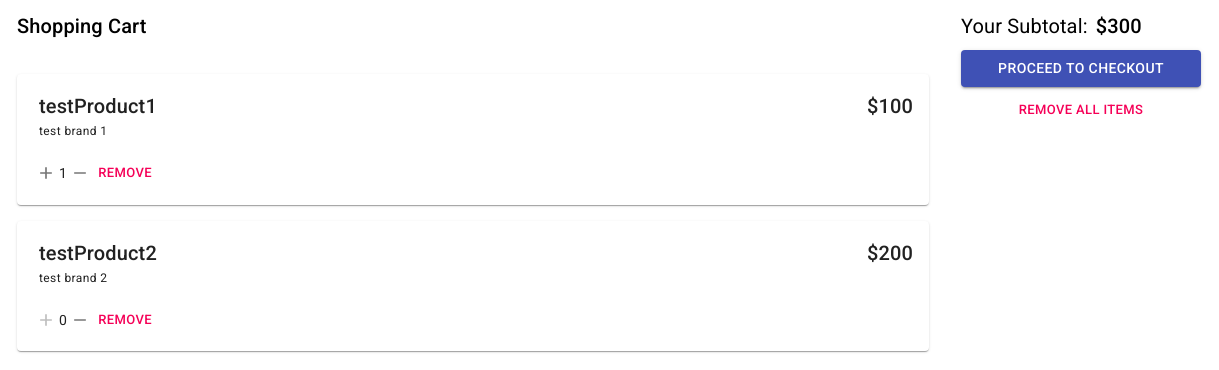
CartDetail tests › Cart is not empty › Clicking on the minus symbol decreases the quantity by 1
Click the button named "decrease" below "test brand 1" at (80, 173), box top-left (67, 160), bottom-right (93, 186)
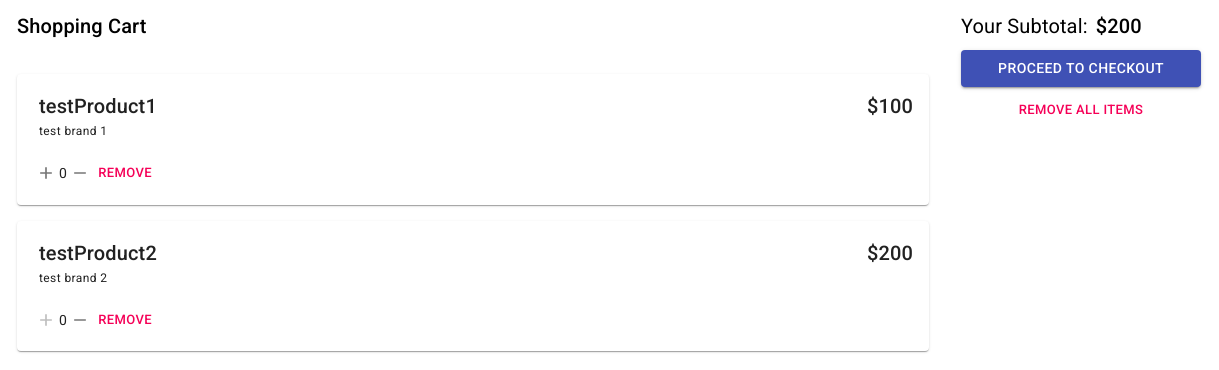
Check: the text named "items-in-cart" reads "0", box top-left (59, 163), bottom-right (67, 183)
